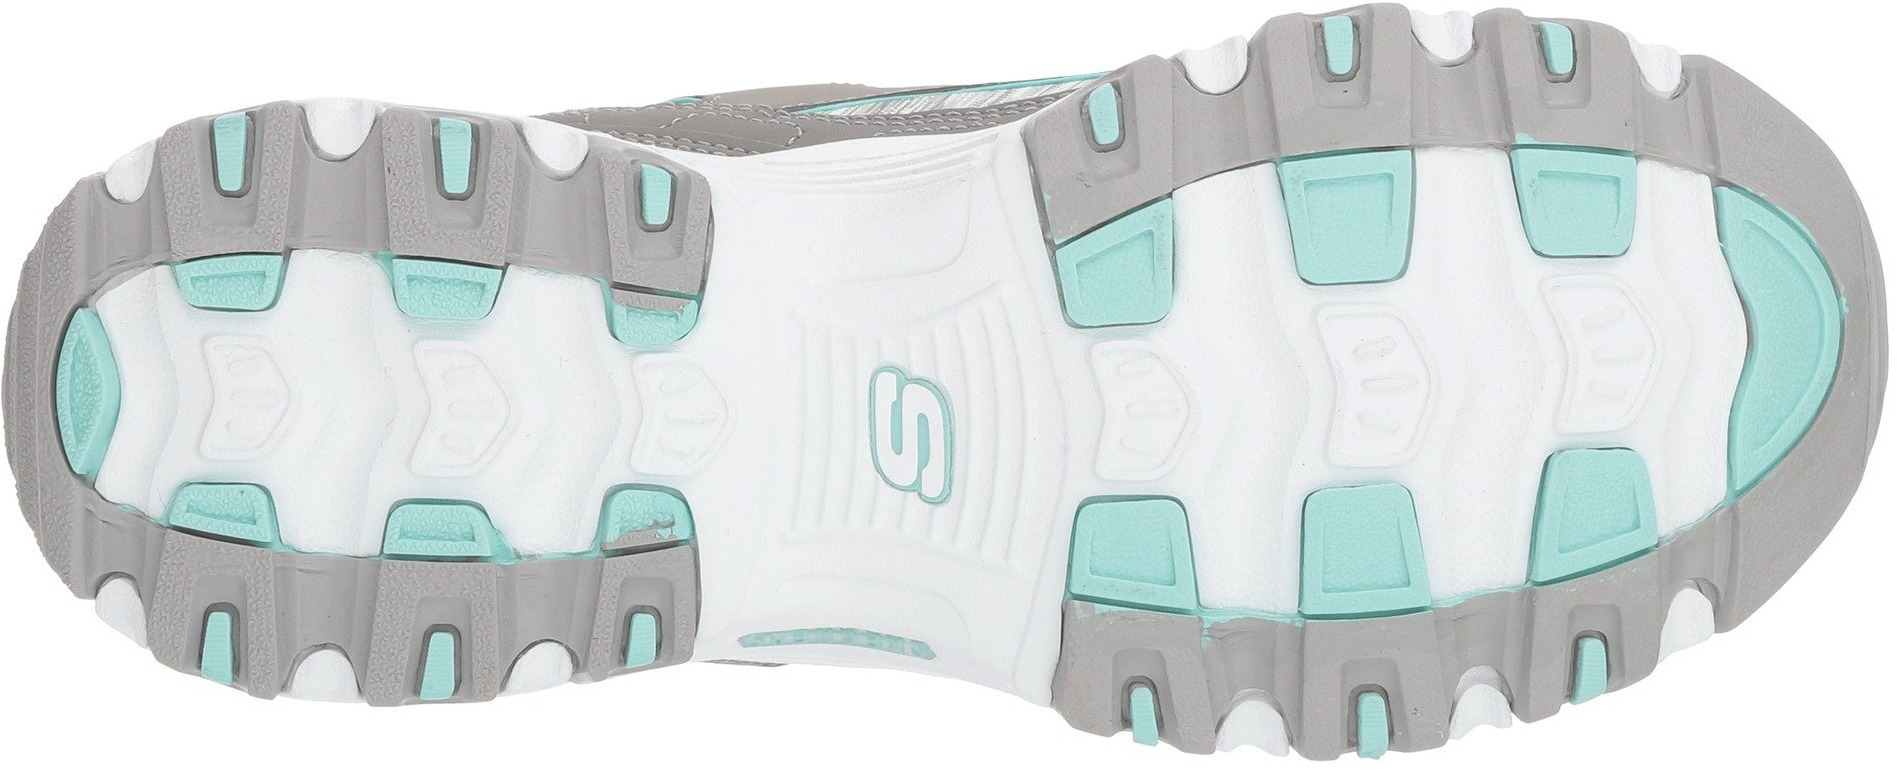chevron: (417, 354, 537, 493)
other: (959, 349, 1069, 454), (796, 387, 867, 470)
quad: (1293, 467, 1460, 626), (1269, 157, 1422, 291), (1523, 435, 1662, 559)
text: (866, 370, 963, 508)
